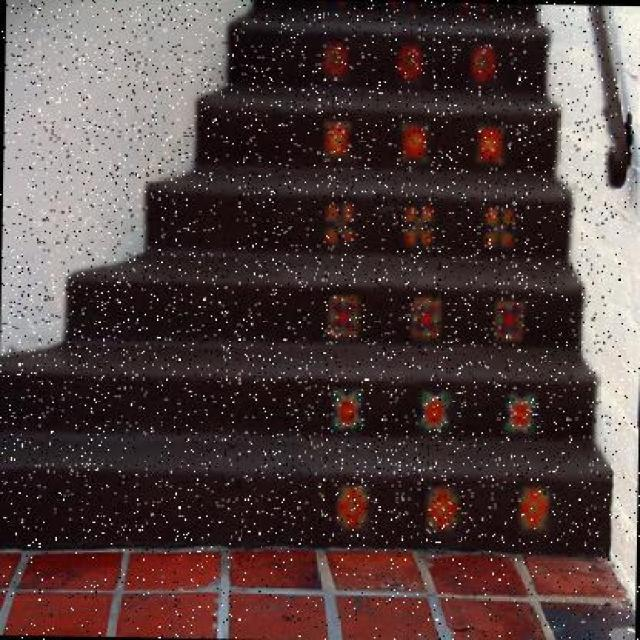Stairs: (11, 12, 627, 532)
